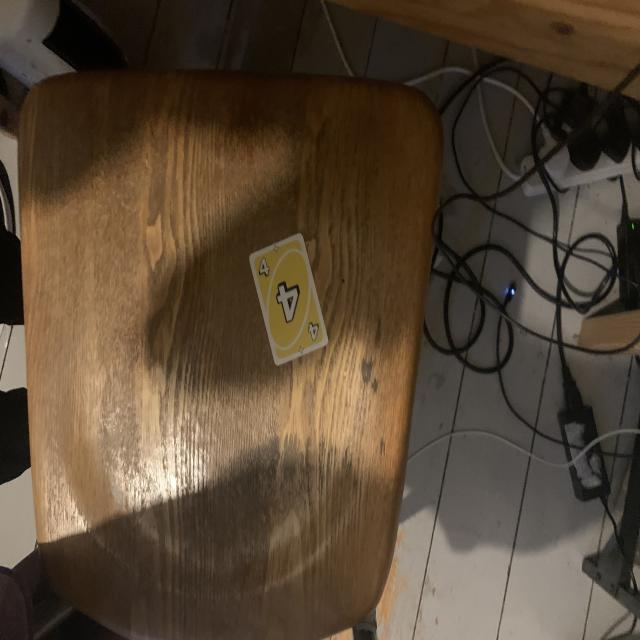lyellow-4: (255, 254, 272, 281)
